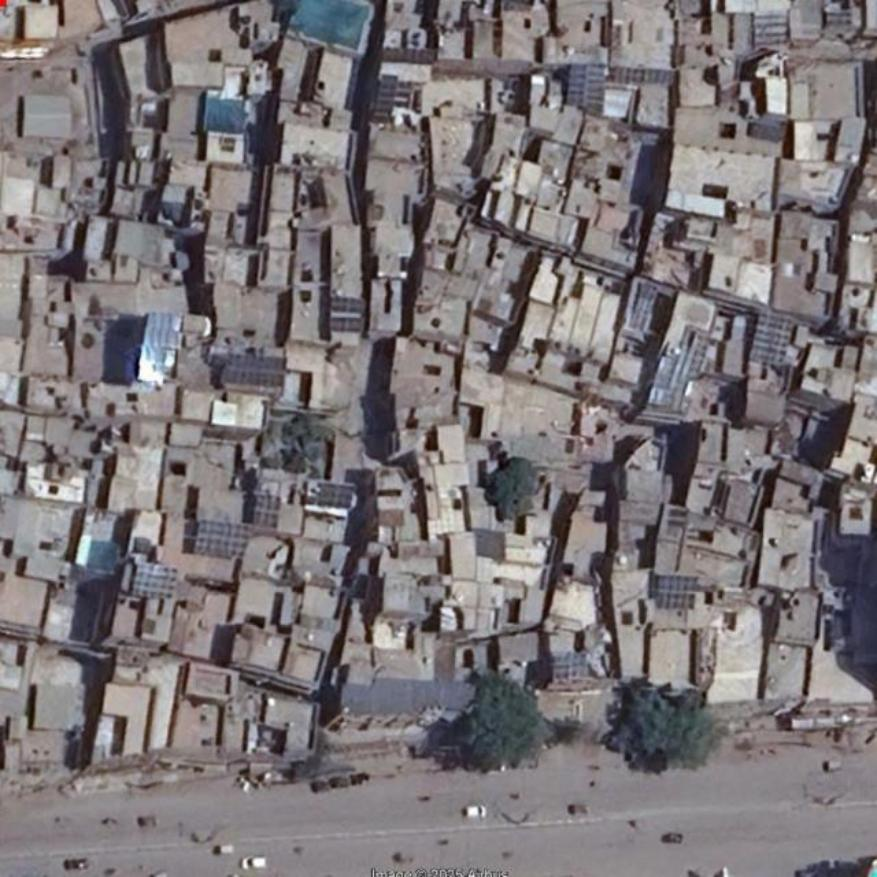Solarpanel: (752, 310, 794, 366), (193, 521, 251, 558), (219, 358, 286, 386), (564, 64, 605, 109), (134, 564, 178, 599), (658, 576, 699, 609), (612, 65, 674, 85), (375, 77, 399, 122), (316, 481, 354, 508), (552, 653, 589, 679), (252, 496, 279, 530), (332, 299, 366, 314), (330, 318, 363, 333)
